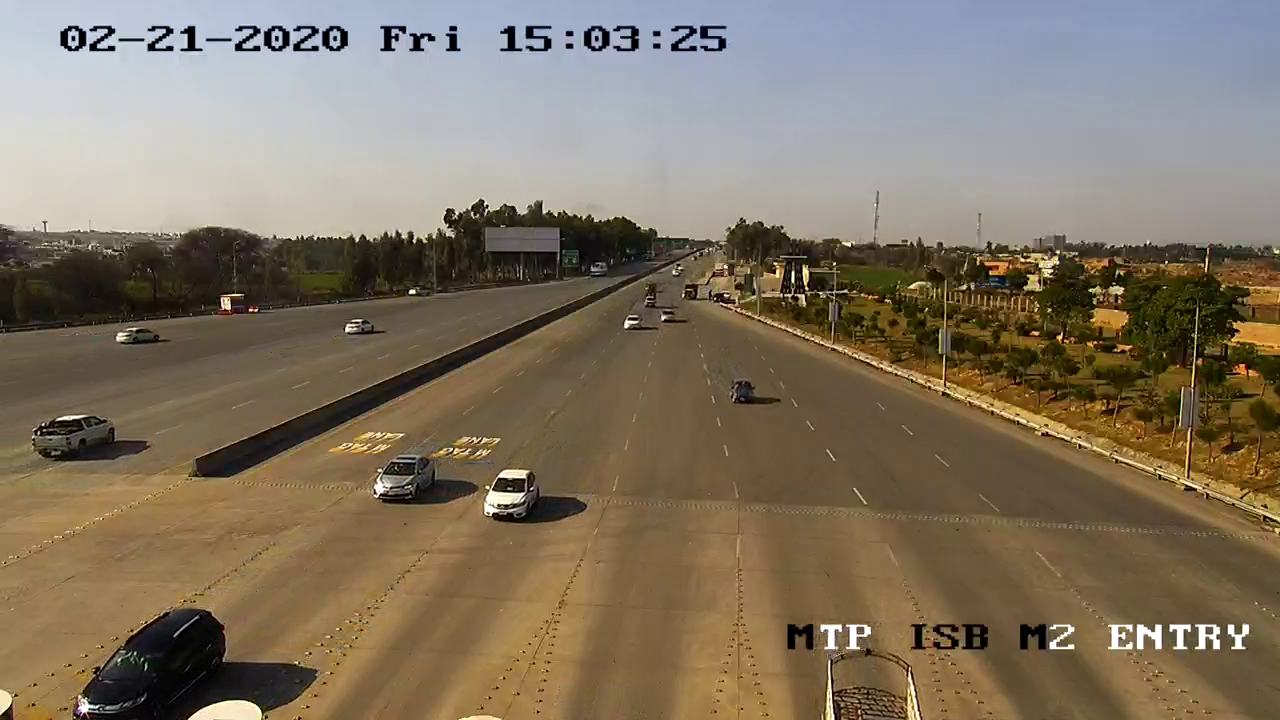f1: (362, 442, 442, 508), (475, 463, 548, 526), (724, 373, 769, 415)
